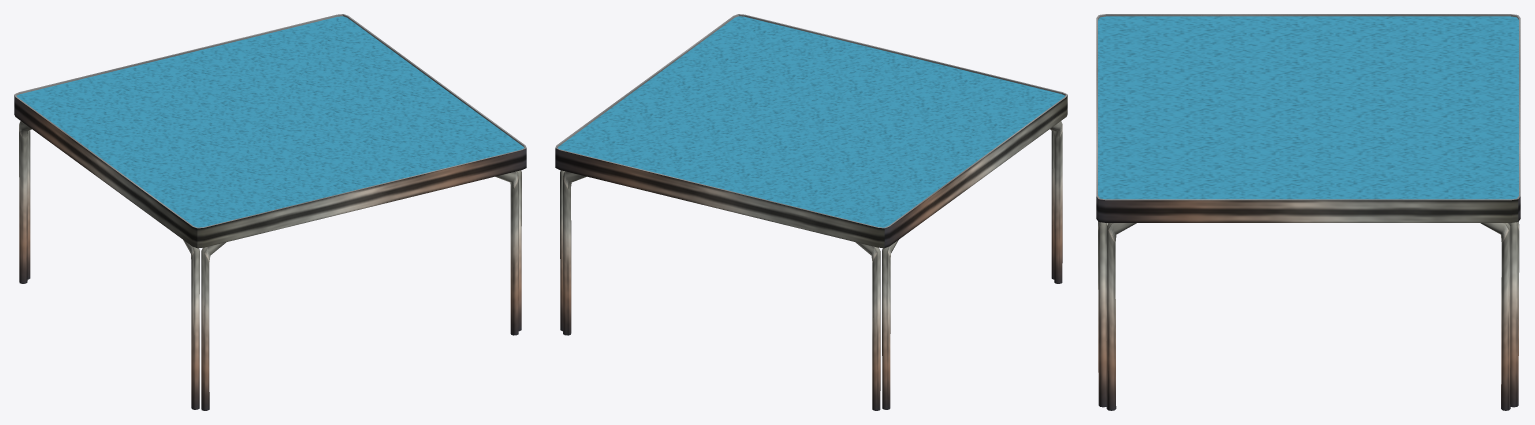
File: Dining_Table_01_A.FBX
3 renders of one model, left to right at view 1: azimuth 30°, elevation 25°; view 2: azimuth 150°, elevation 25°; view 3: azimuth 270°, elevation 25°, orthographic. The views are drawn at different scales.
Parts seen in each view (by area): view 1: Dining_Table; view 2: Dining_Table; view 3: Dining_Table.
Boxes of the visible parts, left/top/right/bottom form: Dining_Table: left=14, top=14, right=526, bottom=410; Dining_Table: left=555, top=14, right=1067, bottom=410; Dining_Table: left=1096, top=14, right=1520, bottom=410.
Bounding box in the file's own units: 264 × 140 × 254.
